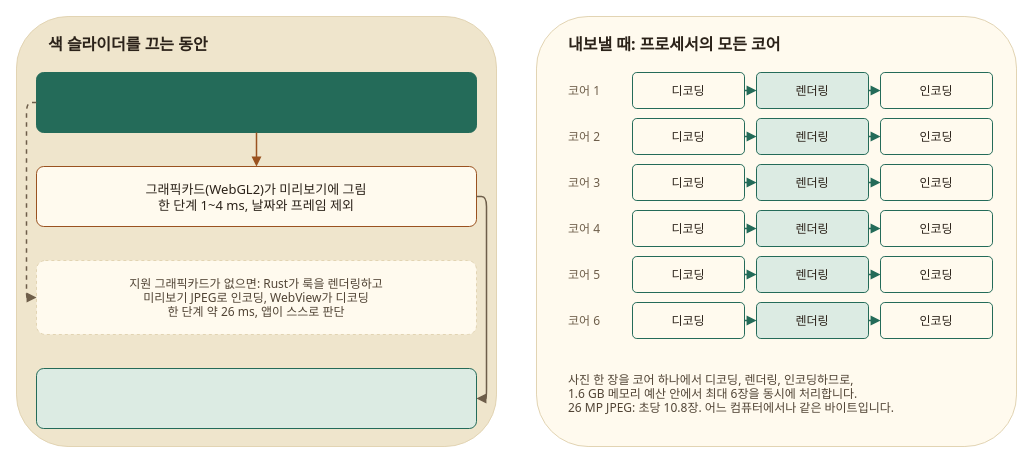
The diagram is 1033 pixels wide and 463 high, and some of its shapes have lost their labels. The centre of each missing label's shape, as x and y in pixels:
Rust 코어가 룩을 33³ 테이블 하나로 구성 0.9~1.3 ms: the point at 256,102
손을 떼면 Rust의 정확한 렌더링으로 전환 차이 평균 0.13 ΔE2000, 눈에 안 보임: the point at 256,398
